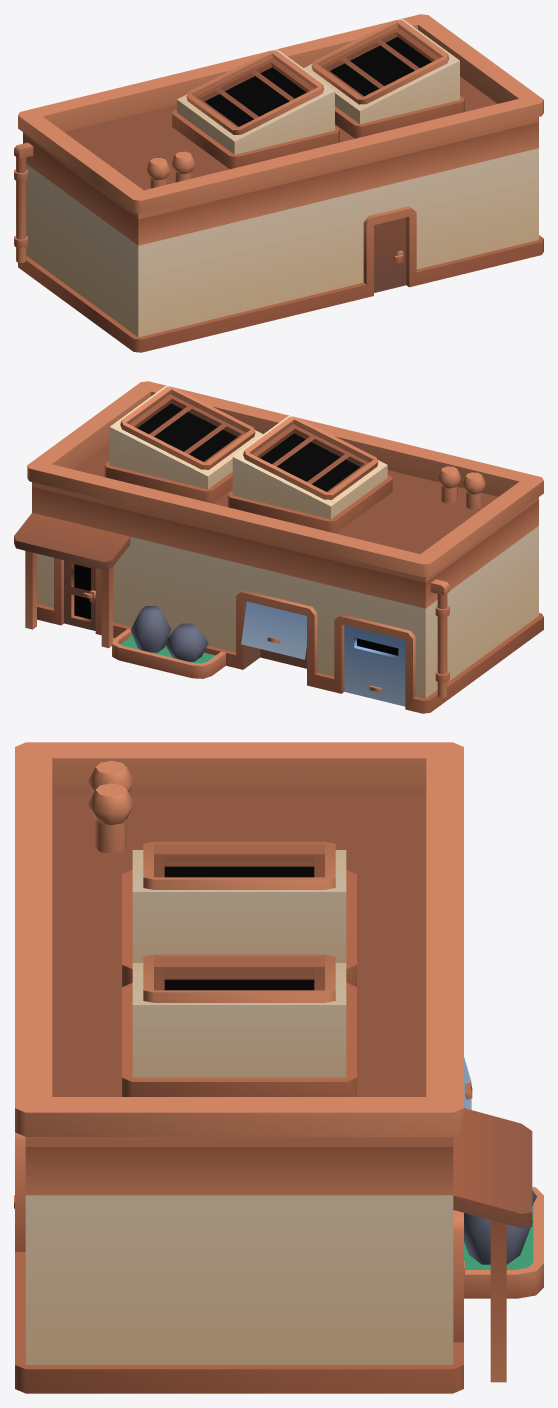
File: building-p.glb
The picture shows the model from 3 angles, top to bottom: view 1: azimuth 30°, elevation 25°; view 2: azimuth 150°, elevation 25°; view 3: azimuth 270°, elevation 25°; orthographic projection. The views are drawn at different scales.
Parts seen in each view (by area): view 1: building-p; view 2: building-p; view 3: building-p.
Part boxes in pixels (x1,y1,x2,y2): building-p: (14, 14, 543, 352); building-p: (14, 381, 543, 713); building-p: (14, 742, 543, 1393).
Size of the model in its own units: 1.68 by 0.7146 by 0.992.
1 material, 1 textured.
